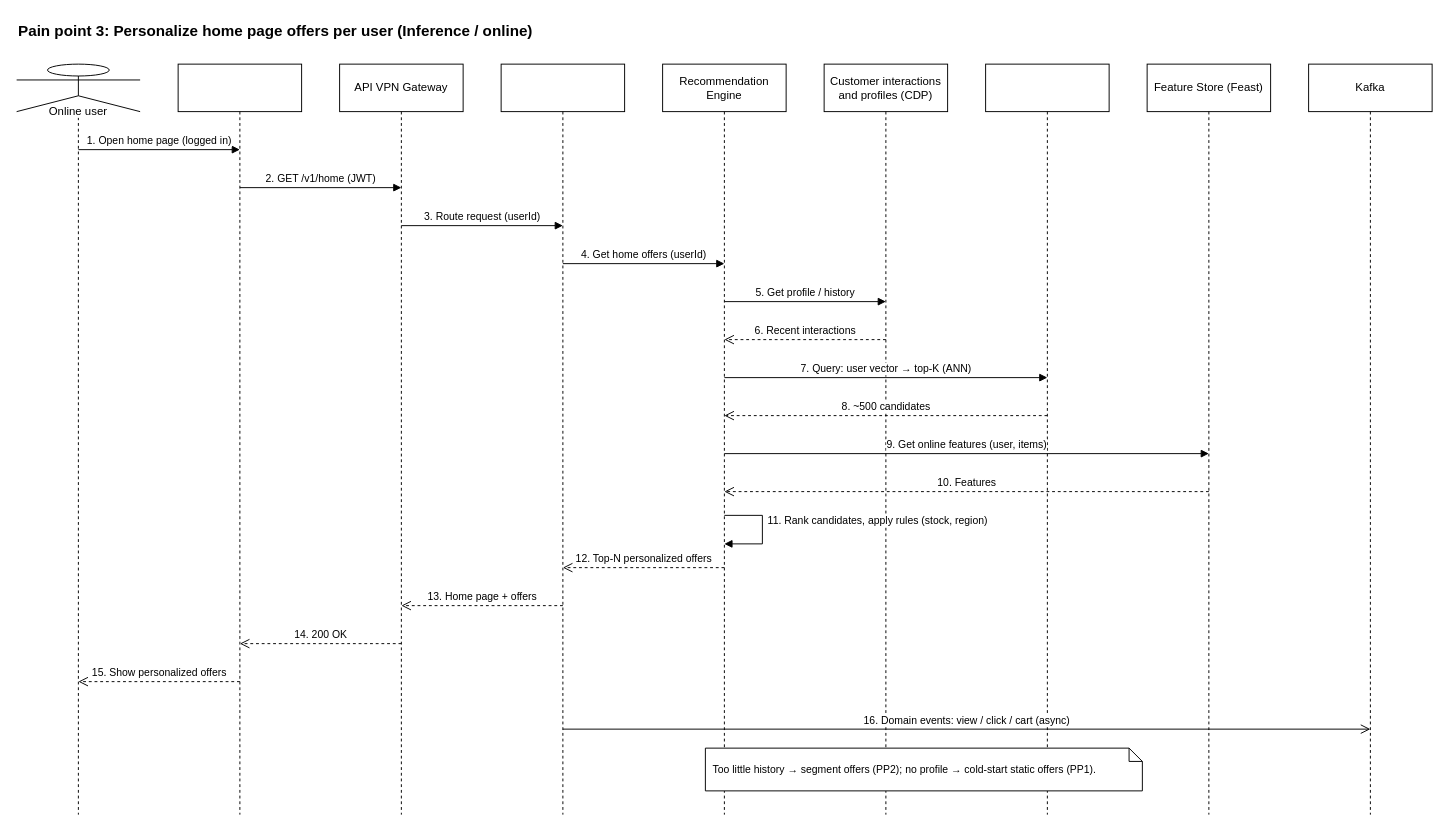
The diagram is 1449 pixels wide and 831 high, and some of its shapes have lost their labels. The shapes that lost their labels are listed below. From the top down, each one's box as (x1, y1, x2, y2) in pixels, then its label:
(177, 63, 302, 815): Channel Mobile / Website
(500, 63, 625, 815): E-commerce Service
(985, 63, 1109, 815): Vector DB (Qdrant)
